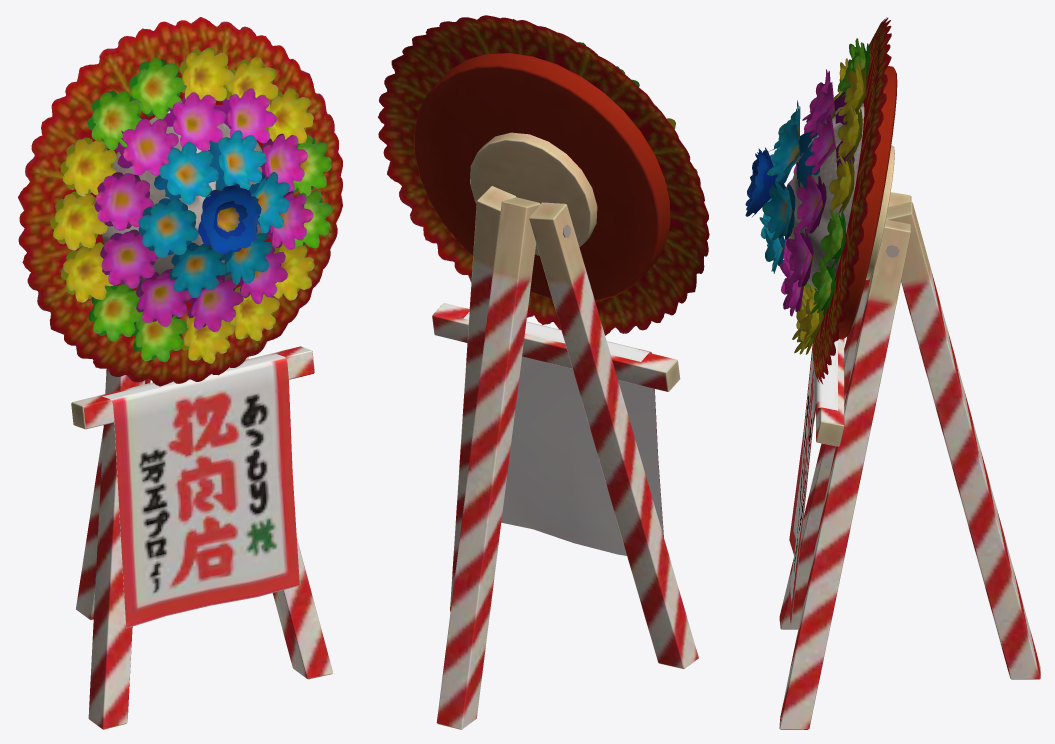
3 views of the same model, side by side, from view 1: azimuth 30°, elevation 25°; view 2: azimuth 150°, elevation 25°; view 3: azimuth 270°, elevation 25° (orthographic).
Bounding box in the file's own units: 10.17 × 18.91 × 7.99.
1 material, 1 textured.
